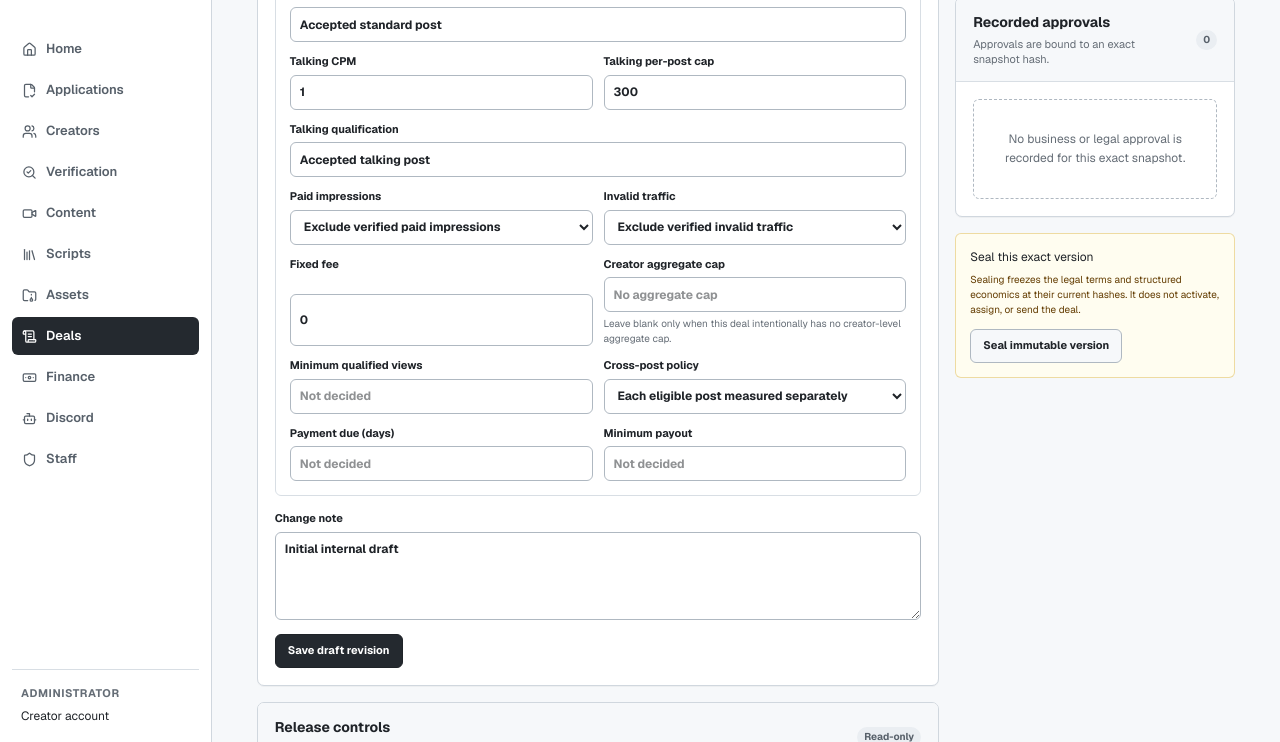
Test: admin deal workspace › seals the loaded revision without exposing activation or sending
The width and height of the screenshot is (1280, 742).
(page scrolled)
Click the button "Seal immutable version" at (1046, 346), box [970,329,1122,363]
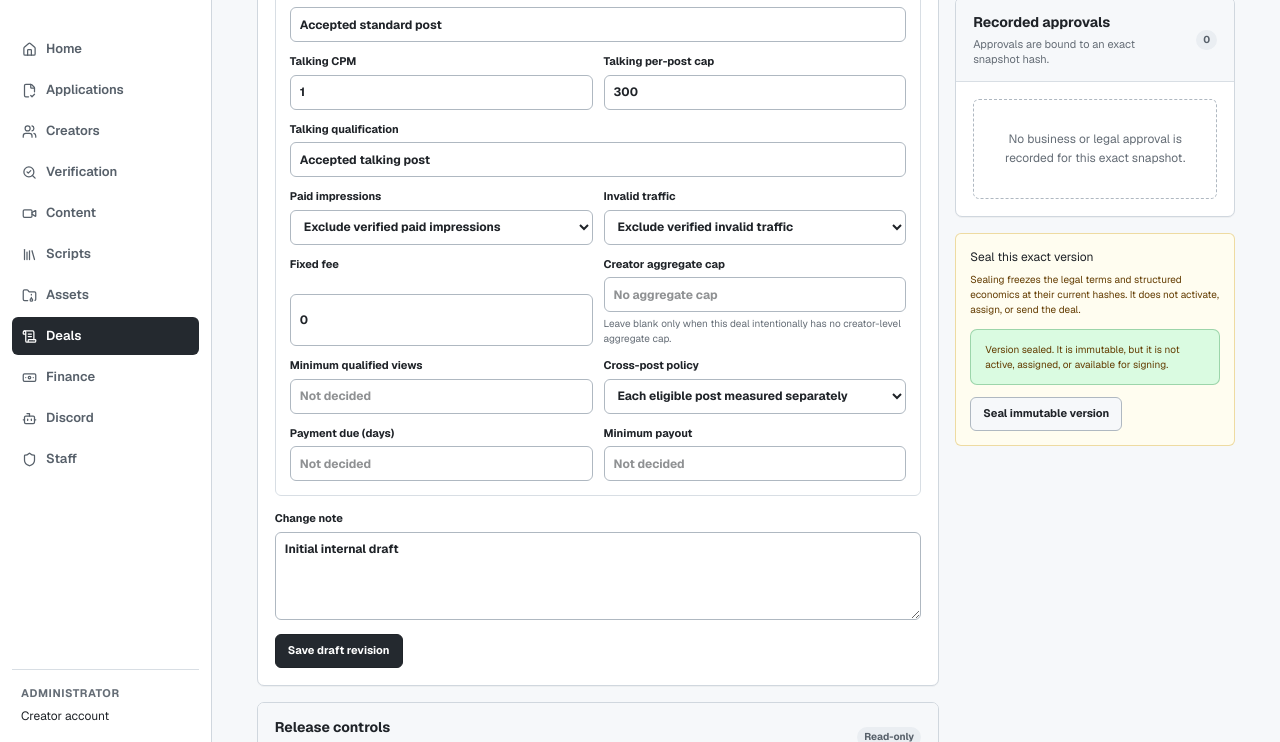
Now the message shows "not active, assigned, or available for signing", box [985,343,1180,371]
